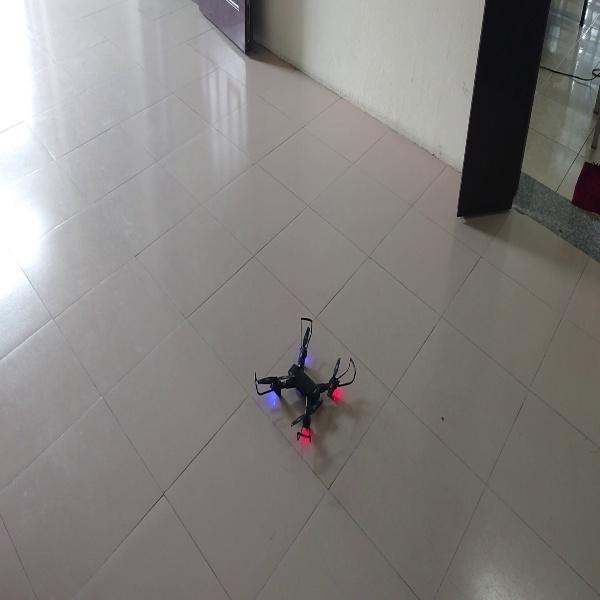drone: (249, 311, 358, 449)
